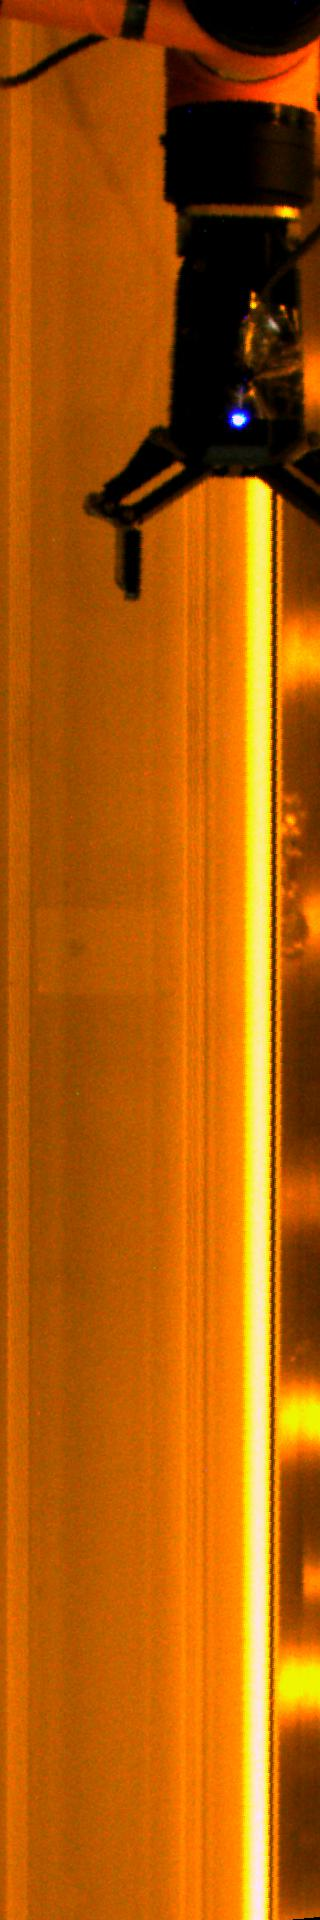keyPoint_1: (224, 405, 254, 435)
